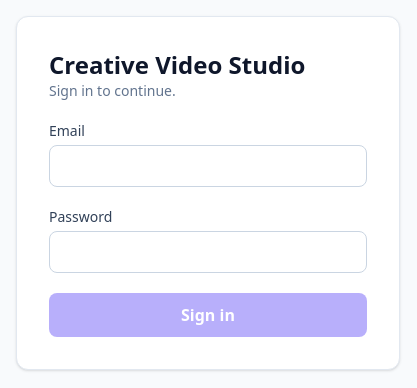
LoginPage › disables Sign in until both fields are filled
Expected: the button "Sign in" is disabled, [49,293,367,337]
Type "me@example.com" into the field labelled "Email" at point(208, 166), box [49,145,367,187]
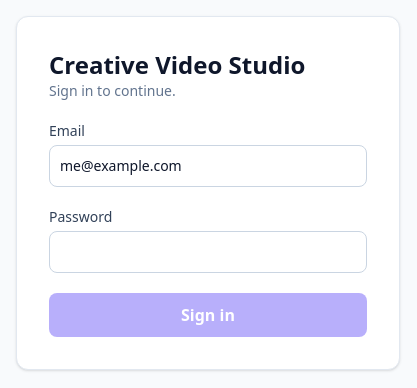
Expected: the button "Sign in" is disabled, [49,293,367,337]
Type "x" into the password field labelled "Password" at point(208, 252), box [49,231,367,273]
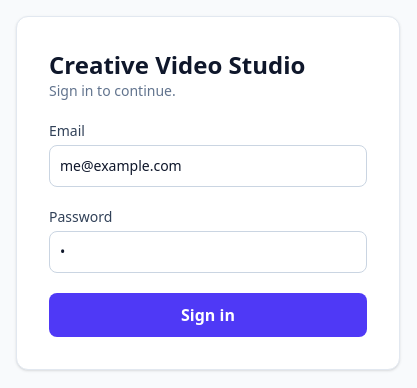
Expected: the button "Sign in" is enabled, [49,293,367,337]
